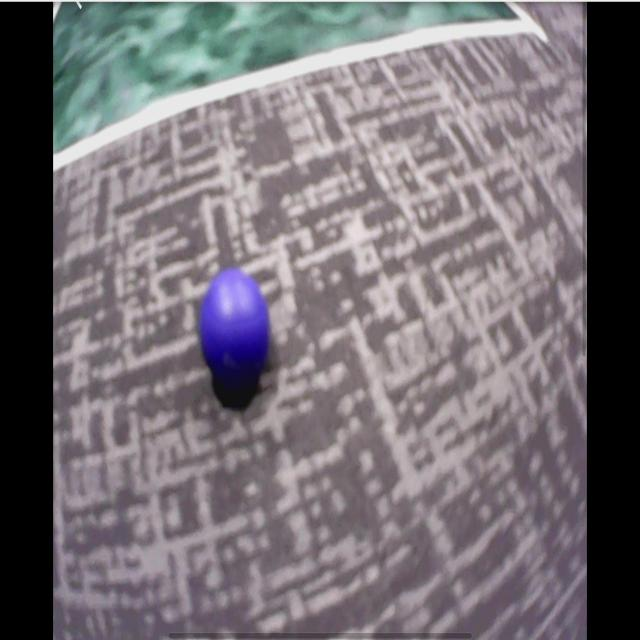ball: (201, 272, 270, 379)
